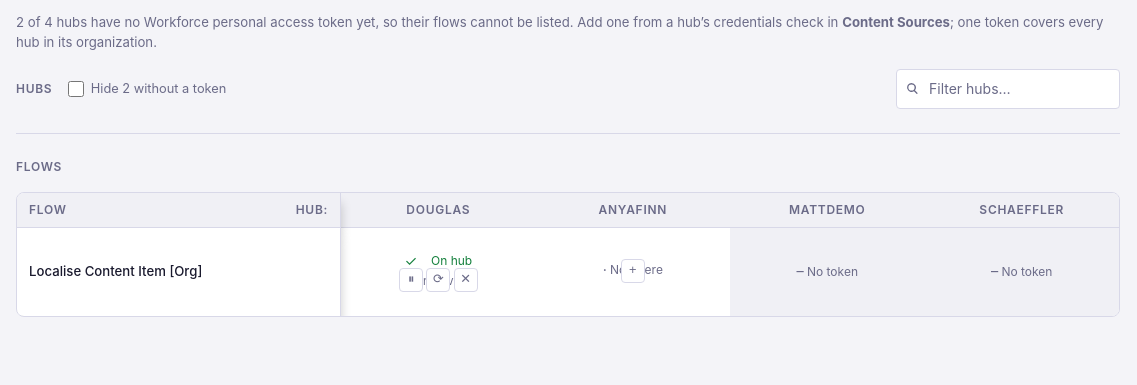
Test: FlowsTab — narrowing the hub axis › offers a way back when the filter matches no hub at all
Type "zzzz" into the search field labelled "Filter hubs" at (1008, 89), box [896,69,1120,109]
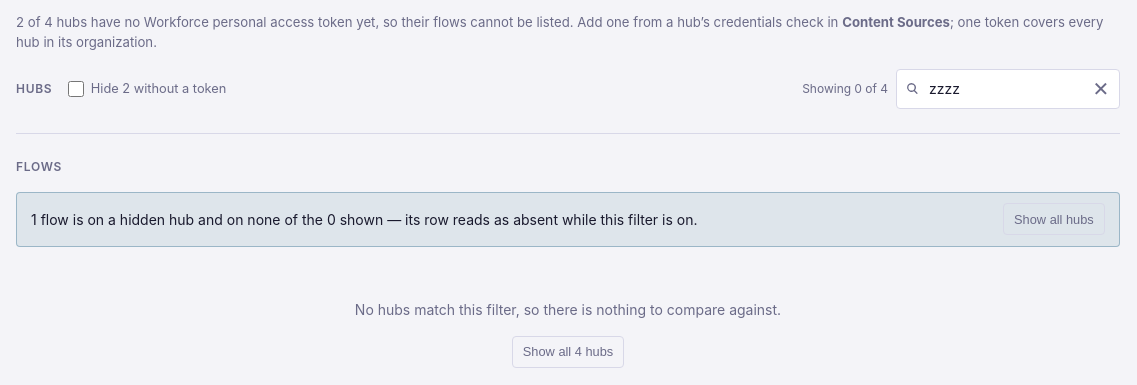
Click the button "Show all 4 hubs" at (568, 352), box [512,336,624,368]
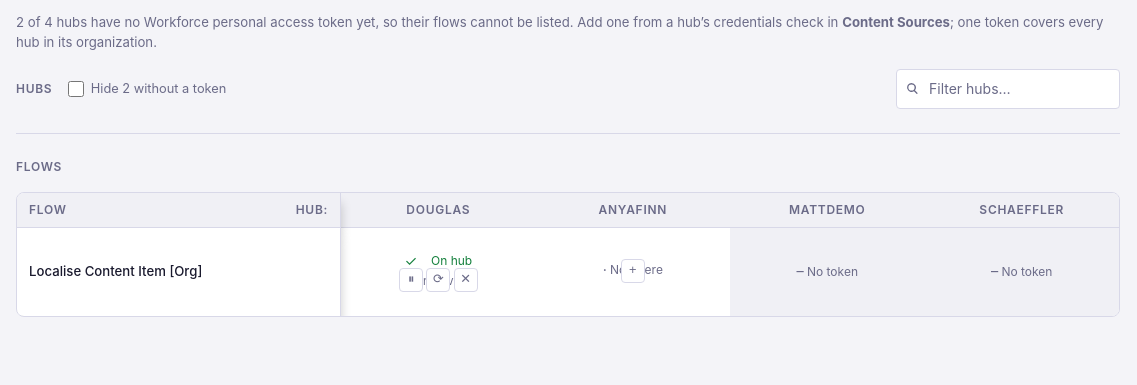
Expected: the column heading "Douglas" is shown, [341,193,536,228]
